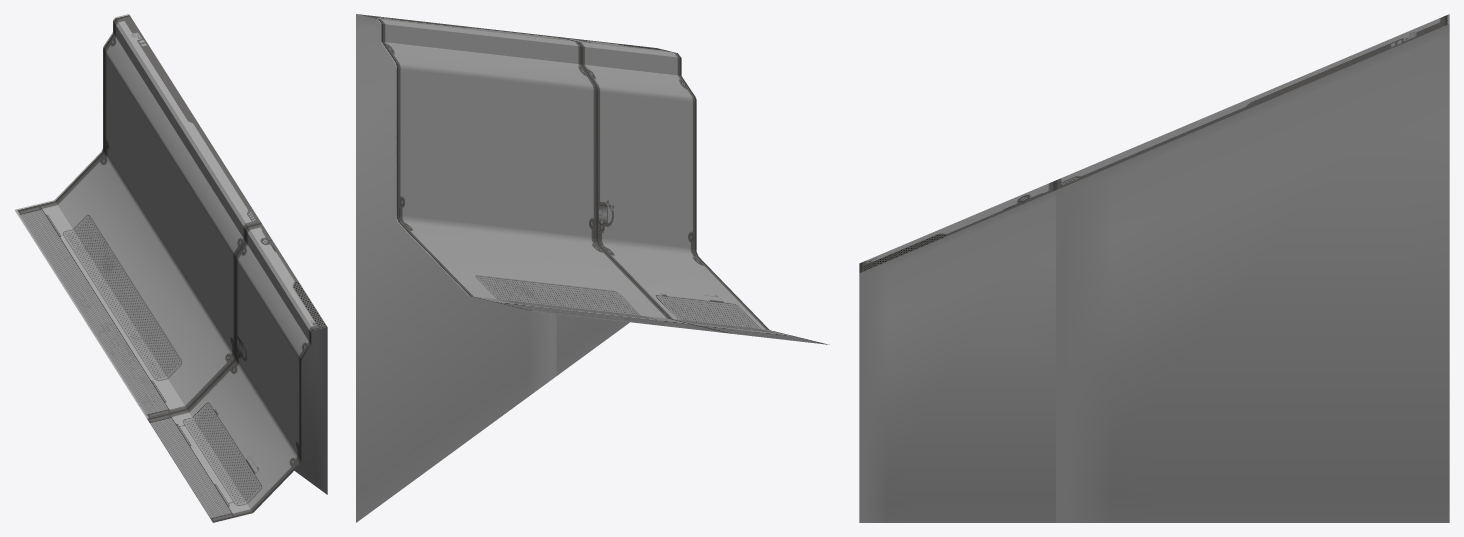
The model's file is A_Wall_Ramp_L_2x6.FBX.
3 renders of one model, left to right at view 1: azimuth 30°, elevation 25°; view 2: azimuth 150°, elevation 25°; view 3: azimuth 270°, elevation 25°, orthographic. The views are drawn at different scales.
Parts seen in each view (by area): view 1: A_Wall_Ramp_L_2x6; view 2: A_Wall_Ramp_L_2x6; view 3: A_Wall_Ramp_L_2x6.
Part boxes in pixels (x1,y1,x2,y2): A_Wall_Ramp_L_2x6: (15,14,327,522); A_Wall_Ramp_L_2x6: (356,14,829,522); A_Wall_Ramp_L_2x6: (859,14,1449,522).
Bounding box in the file's own units: 200 × 560 × 600.
